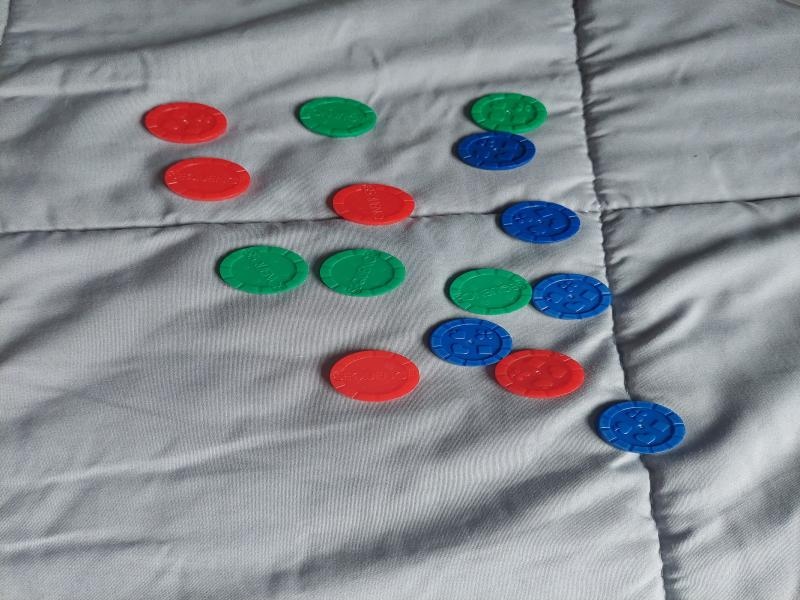Blue_Token: (590, 396, 694, 456), (424, 314, 516, 371), (527, 270, 621, 322), (491, 197, 587, 245), (447, 130, 542, 171)
Green_Token: (213, 243, 313, 297), (314, 244, 412, 299), (440, 264, 536, 318), (291, 91, 383, 140), (466, 90, 555, 134)
Red_Token: (320, 347, 426, 405), (489, 347, 590, 400), (156, 155, 258, 205), (138, 98, 236, 148), (325, 180, 426, 228)
